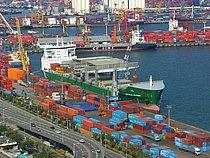Ship: (39, 38, 169, 110)
